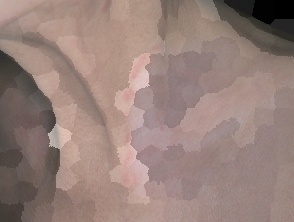vitiligo: (99, 13, 274, 206)
